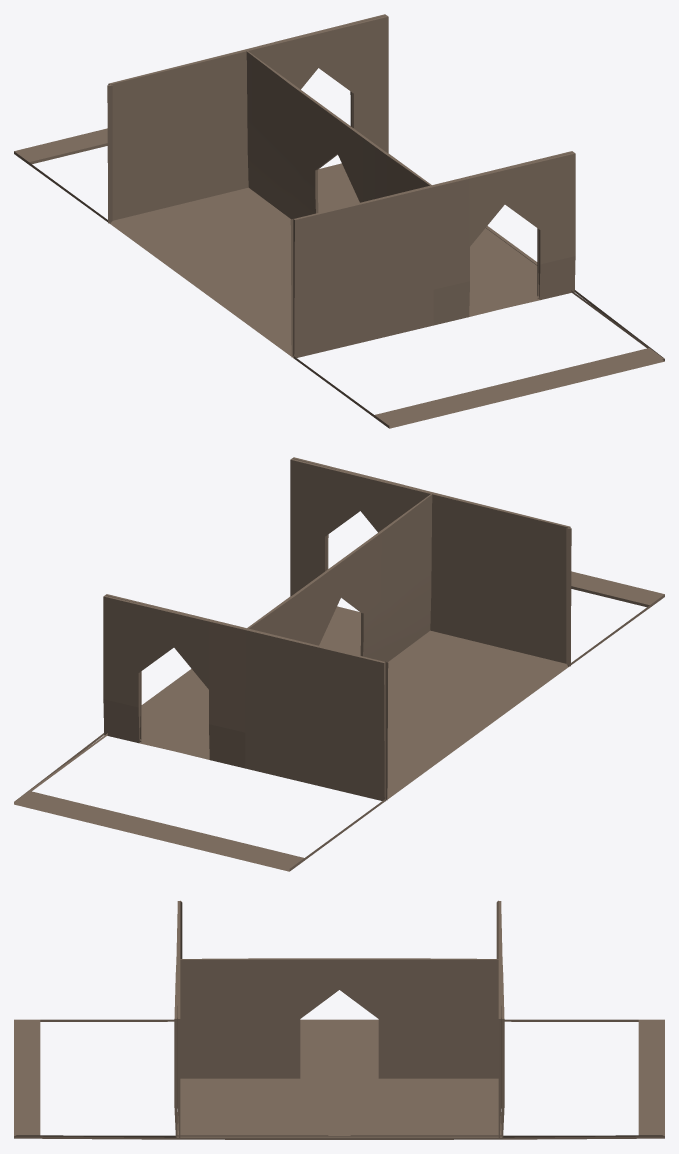
Rendered from SM_Edificio_Interior 1.fbx.
The picture shows the model from 3 angles, top to bottom: view 1: azimuth 30°, elevation 25°; view 2: azimuth 150°, elevation 25°; view 3: azimuth 270°, elevation 25°; orthographic projection. The views are drawn at different scales.
Parts seen in each view (by area): view 1: Interior; view 2: Interior; view 3: Interior.
Part boxes in pixels (bbox=[...]): Interior: bbox=[14, 14, 664, 428]; Interior: bbox=[14, 457, 664, 871]; Interior: bbox=[14, 900, 664, 1139].
Size of the model in its own units: 3210 by 1521 by 7420.
